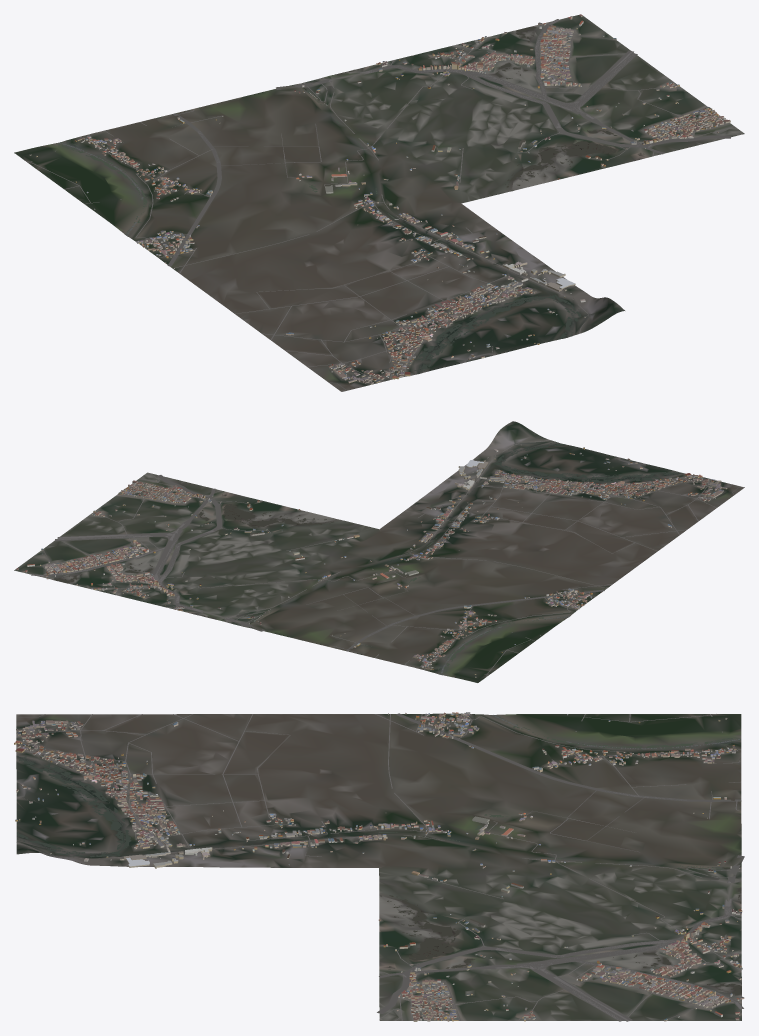
3 renders of one model, top to bottom at view 1: azimuth 30°, elevation 25°; view 2: azimuth 150°, elevation 25°; view 3: azimuth 270°, elevation 25°, orthographic. The views are drawn at different scales.
Parts seen in each view (by area): view 1: ground, buildings, roads, water; view 2: ground, buildings, roads, water; view 3: ground, buildings, roads, water.
Part boxes in pixels (left/top/right/bottom): ground: left=14, top=15, right=744, bottom=391; buildings: left=29, top=14, right=730, bottom=384; roads: left=25, top=19, right=741, bottom=390; water: left=59, top=26, right=644, bottom=373; ground: left=14, top=421, right=744, bottom=682; buildings: left=16, top=444, right=727, bottom=677; roads: left=31, top=440, right=740, bottom=676; water: left=54, top=442, right=682, bottom=674; ground: left=16, top=713, right=741, bottom=1020; buildings: left=14, top=712, right=744, bottom=1021; roads: left=16, top=713, right=744, bottom=1021; water: left=17, top=715, right=741, bottom=995.
Size of the model in its own units: 2822 by 70.58 by 2827.
